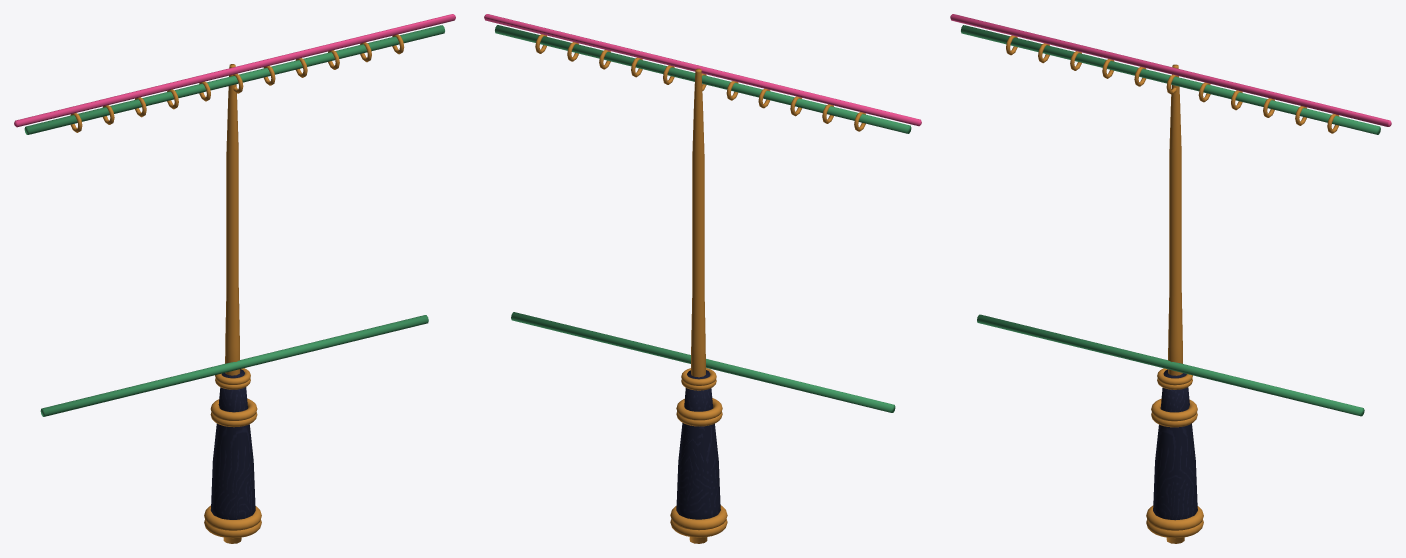
File: BackPole.fbx
3 views of the same model, side by side, from view 1: azimuth 30°, elevation 25°; view 2: azimuth 150°, elevation 25°; view 3: azimuth 330°, elevation 25° (orthographic).
Parts seen in each view (by area): view 1: BackPole_LOD0; view 2: BackPole_LOD0; view 3: BackPole_LOD0.
Part boxes in pixels (x1,y1,x2,y2): BackPole_LOD0: (14,14,455,543); BackPole_LOD0: (484,14,921,543); BackPole_LOD0: (950,14,1391,543).
Size of what is drawn, in the model's own units: 14.21 by 14.68 by 1.62.
Materials: 4 (1 with a texture image).
